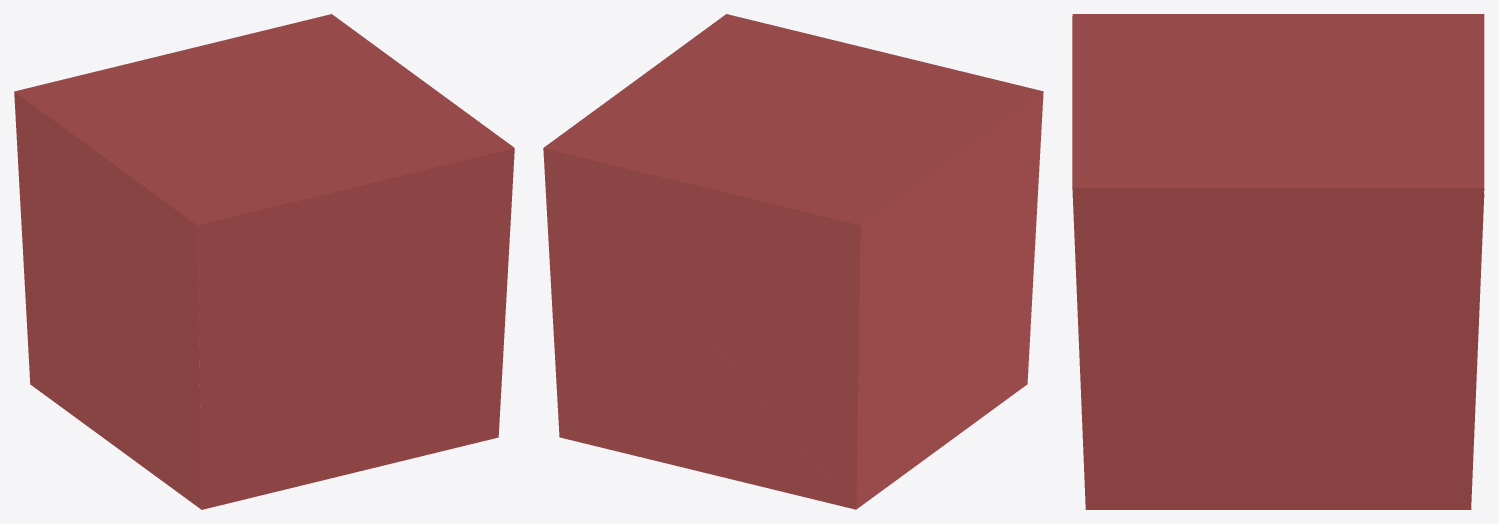
File: habatake.glb
The picture shows the model from 3 angles, left to right: view 1: azimuth 30°, elevation 25°; view 2: azimuth 150°, elevation 25°; view 3: azimuth 270°, elevation 25°; orthographic projection. The views are drawn at different scales.
Parts seen in each view (by area): view 1: habatake_col; view 2: habatake_col; view 3: habatake_col.
Part boxes in pixels (x1=…): habatake_col: x1=14, y1=14, x2=514, y2=509; habatake_col: x1=543, y1=14, x2=1043, y2=509; habatake_col: x1=1072, y1=14, x2=1484, y2=509.
Size of the model in its own units: 17.11 by 15.02 by 17.11.
